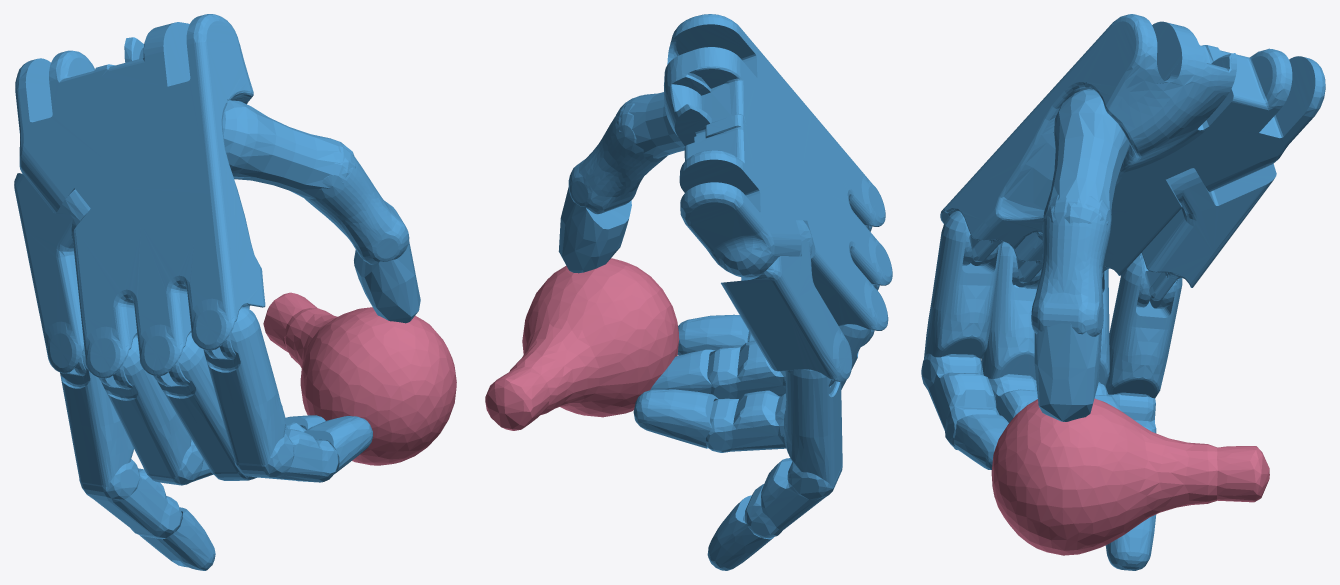
The picture shows the model from 3 angles, left to right: view 1: azimuth 30°, elevation 25°; view 2: azimuth 150°, elevation 25°; view 3: azimuth 270°, elevation 25°; orthographic projection.
Parts seen in each view (by area): view 1: 9; view 2: 9; view 3: 9.
Part boxes in pixels (bbox=[...]): 9: bbox=[14, 14, 456, 570]; 9: bbox=[485, 14, 892, 570]; 9: bbox=[921, 14, 1325, 570].
Bounding box in the file's own units: 0.1338 × 0.199 × 0.1303.
